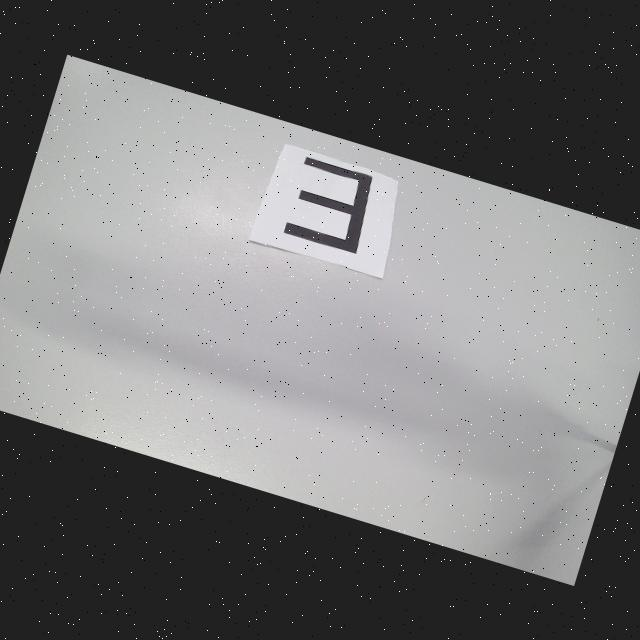FAKE: (282, 154, 381, 256)
